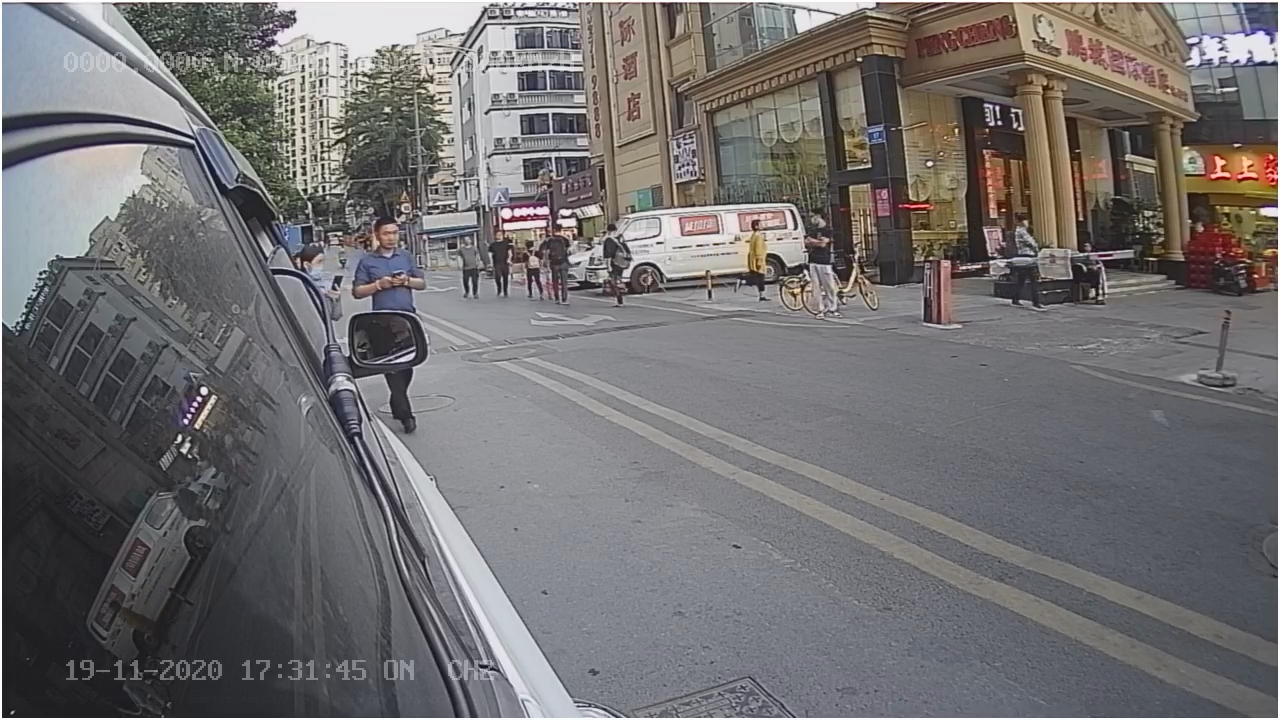person: (350, 215, 438, 304)
